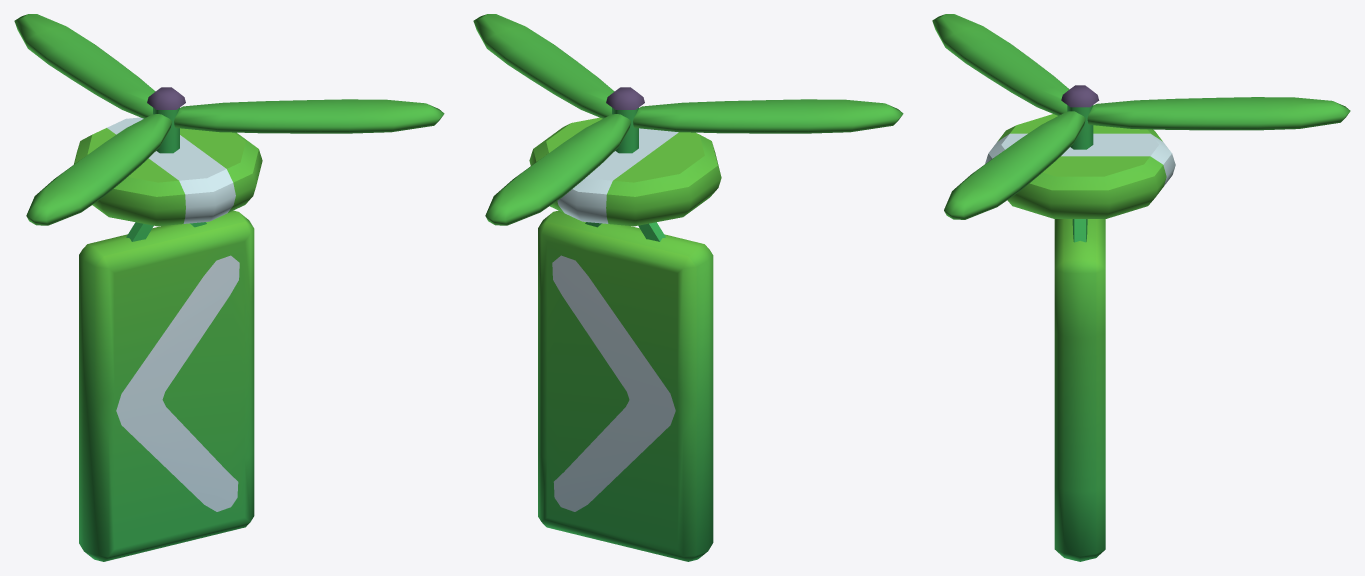
File: copter sign.fbx
3 views of the same model, side by side, from view 1: azimuth 30°, elevation 25°; view 2: azimuth 150°, elevation 25°; view 3: azimuth 270°, elevation 25° (orthographic). The views are drawn at different scales.
Parts seen in each view (by area): view 1: copter sign, Plane.001; view 2: copter sign, Plane.001; view 3: copter sign, Plane.001.
Part boxes in pixels (bbox=[...]): copter sign: bbox=[74, 87, 262, 561]; Plane.001: bbox=[14, 14, 444, 225]; copter sign: bbox=[529, 87, 721, 561]; Plane.001: bbox=[473, 14, 903, 225]; copter sign: bbox=[985, 85, 1175, 561]; Plane.001: bbox=[932, 14, 1350, 219].
Size of the model in its own units: 713 by 733 by 634.
